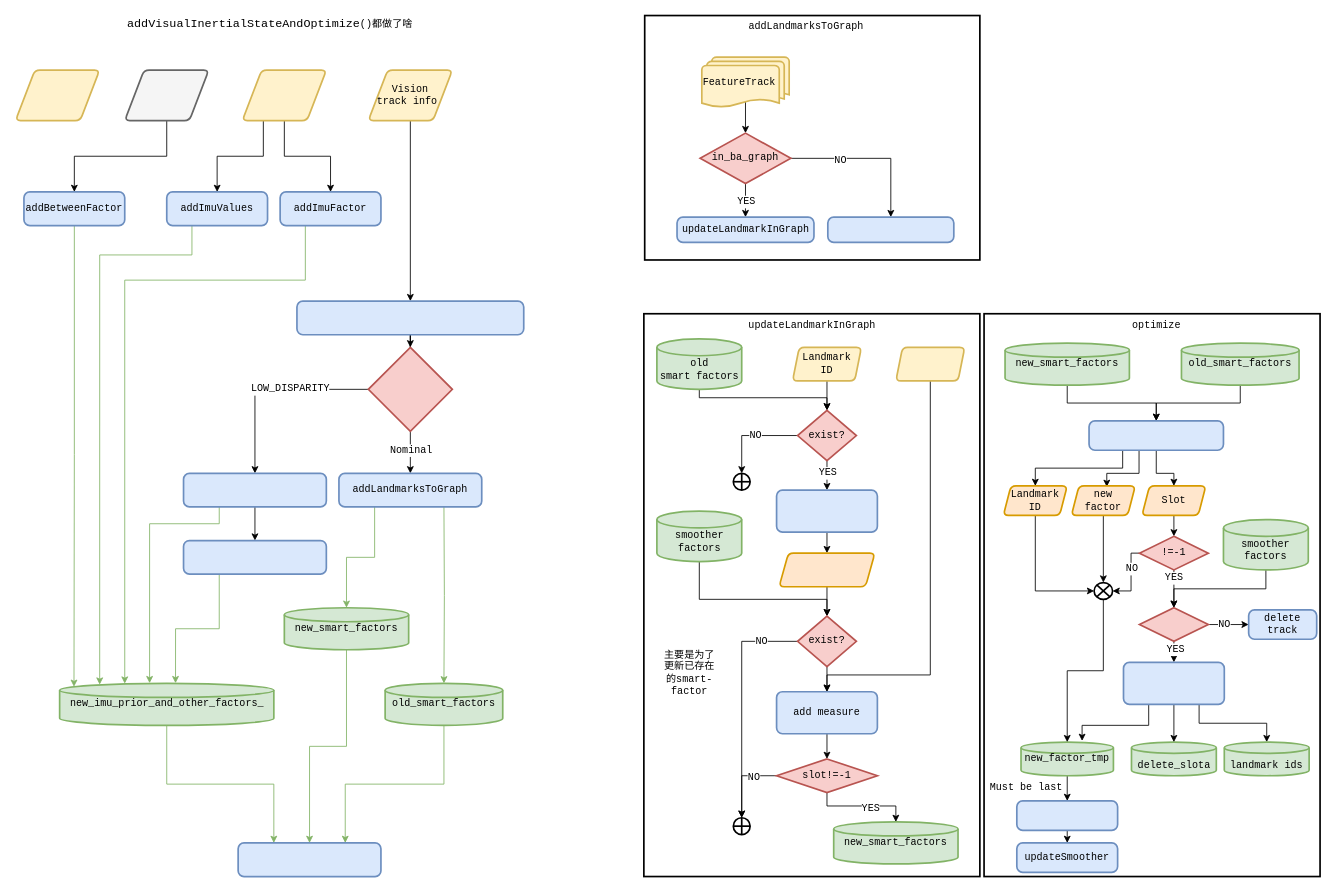
Image size: 1338x891. Some labels were removed from this diagram. Here are the shapes that lost their labels. From the top down, the centre of each, then its label:
At (57,95): "Timestamp".
At (166,95): "ransac body_pose".
At (284,95): "Pre-Inte Measure".
At (890,229): "addLandmarkToGraph".
At (410,317): "addStereoMeasurementsToFeatureTracks".
At (930,363): "new Measure".
At (410,389): "mono status".
At (1156,435): "check existence".
At (254,489): "addZeroVelocityPrior".
At (826,511): "clone old factor".
At (254,557): "addNoMotionFactor".
At (826,569): "new smart factor".
At (1173,624): "exist".
At (1173,683): "add delete list add to-add list".
At (1067,815): "add PIM".
At (309,859): "optimize()".
